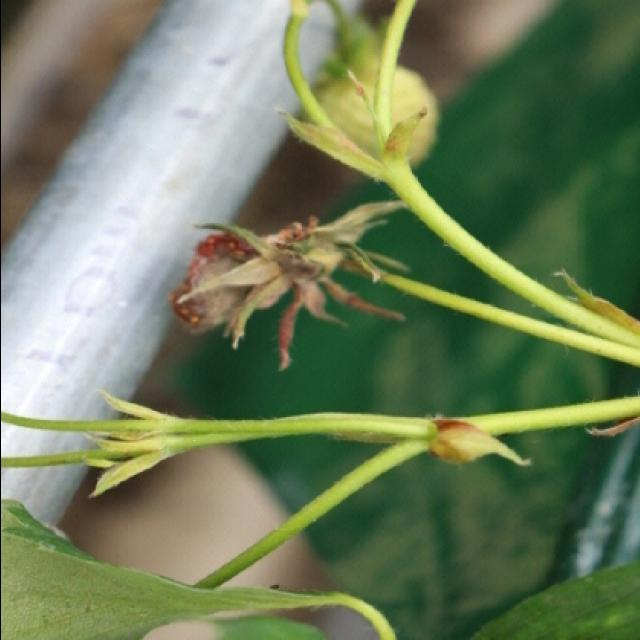Gray Mold: (167, 201, 404, 369)
